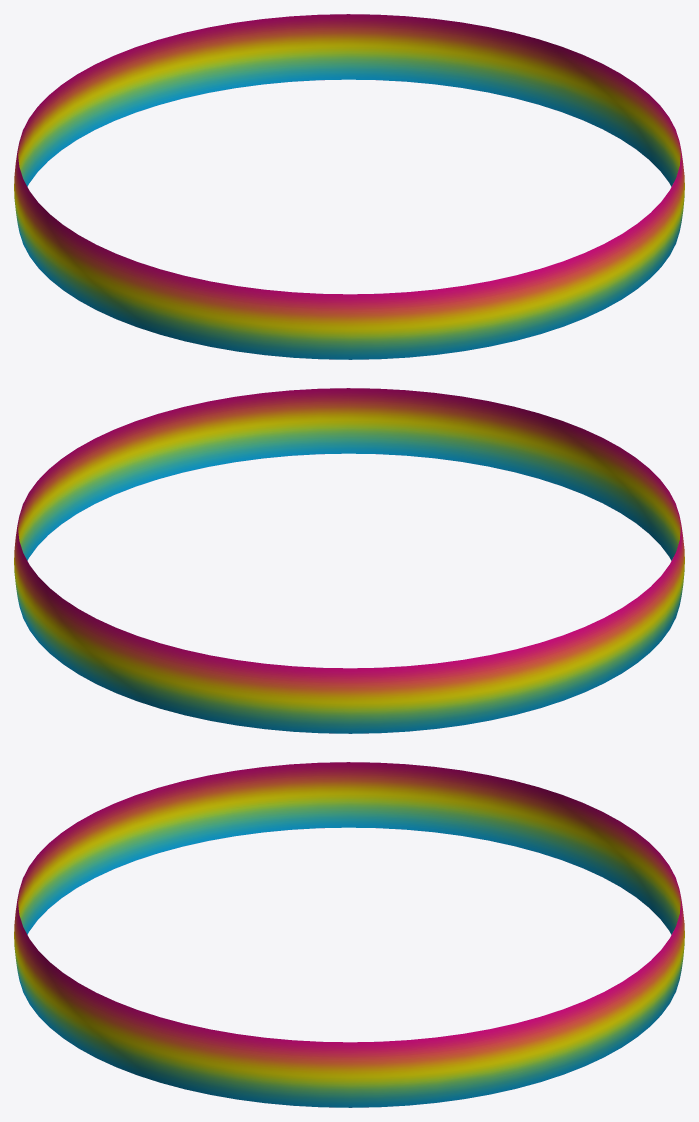
File: RainBow2.fbx
3 views of the same model, one above another, from view 1: azimuth 30°, elevation 25°; view 2: azimuth 150°, elevation 25°; view 3: azimuth 270°, elevation 25° (orthographic).
Parts seen in each view (by area): view 1: SM_SlamCircle; view 2: SM_SlamCircle; view 3: SM_SlamCircle.
Boxes of the visible parts, <box> form: SM_SlamCircle: <box>14,14,684,359</box>; SM_SlamCircle: <box>14,388,684,733</box>; SM_SlamCircle: <box>14,762,684,1107</box>.
Bounding box in the file's own units: 49.18 × 5.3 × 49.18.
